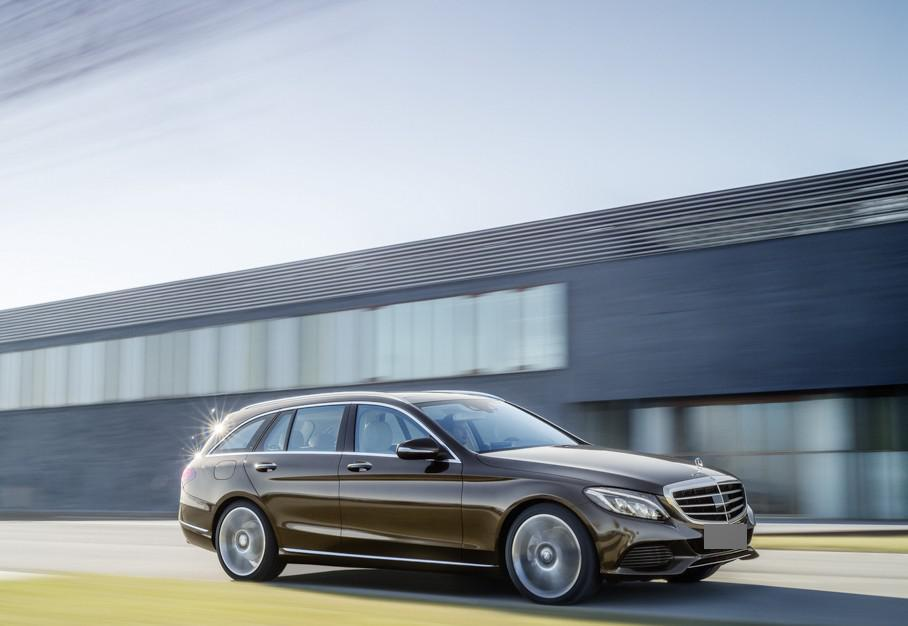Wagon: (179, 389, 759, 606)
